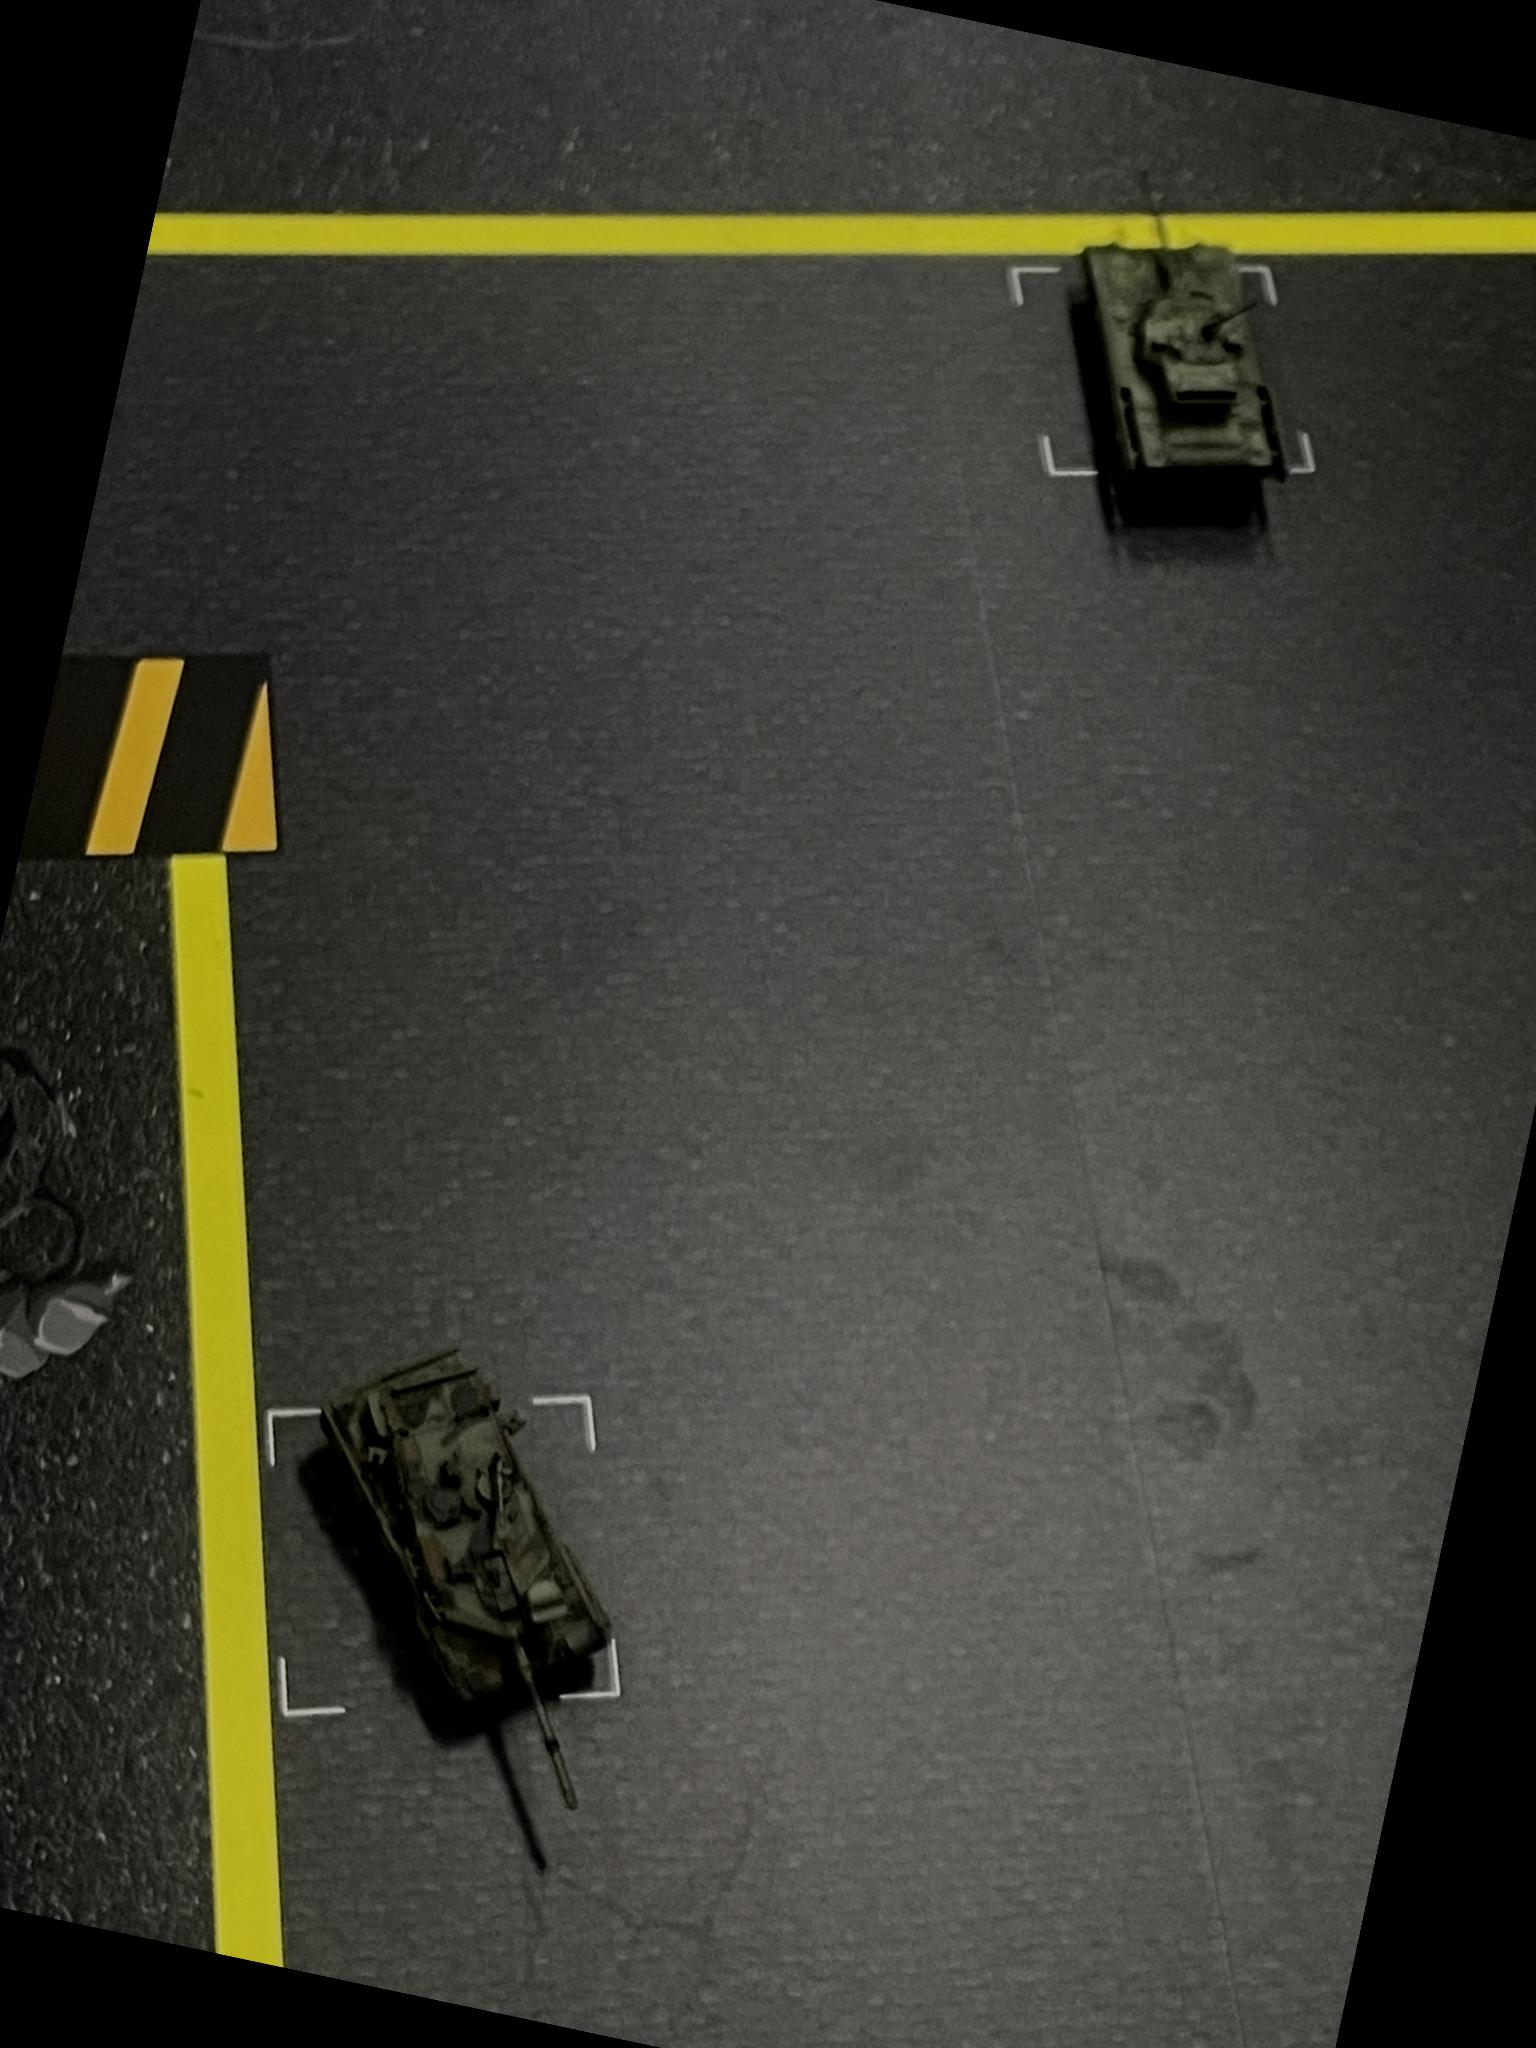Tank: (239, 1319, 691, 1853), (1029, 152, 1346, 547)
